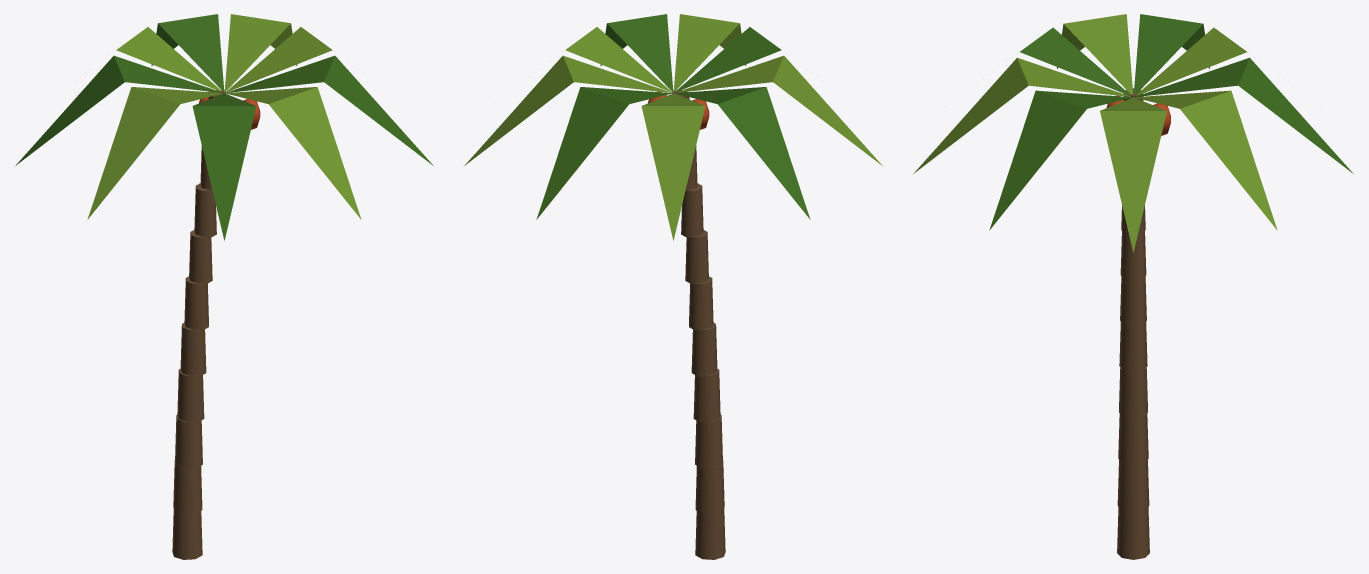
File: eg_palm.glb
3 views of the same model, side by side, from view 1: azimuth 30°, elevation 25°; view 2: azimuth 150°, elevation 25°; view 3: azimuth 270°, elevation 25° (orthographic). The views are drawn at different scales.
Visible parts, largest first — view 1: eg_palm; view 2: eg_palm; view 3: eg_palm.
Part boxes in pixels (x1=…): eg_palm: x1=15, y1=14, x2=433, y2=559; eg_palm: x1=464, y1=14, x2=882, y2=559; eg_palm: x1=913, y1=14, x2=1353, y2=559.
Bounding box in the file's own units: 5.82 × 7.5 × 5.91.
